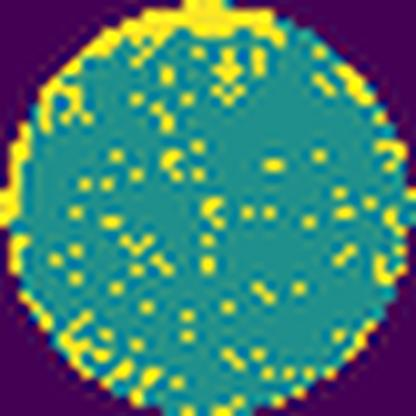Edge-Loc: (36, 0, 291, 140), (0, 113, 38, 226)
